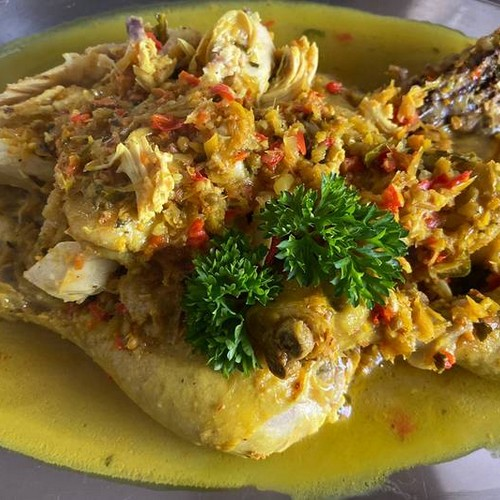ayam betutu: (10, 25, 268, 242)
